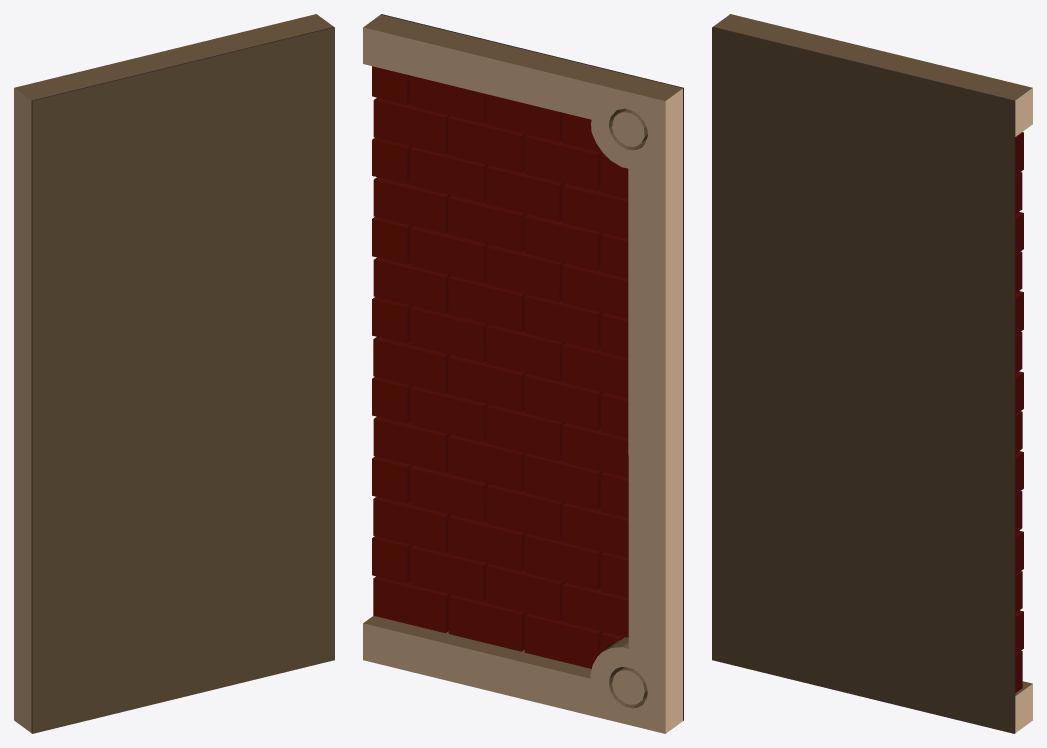
File: RightWall.fbx
The picture shows the model from 3 angles, left to right: view 1: azimuth 30°, elevation 25°; view 2: azimuth 150°, elevation 25°; view 3: azimuth 330°, elevation 25°; orthographic projection.
Visible parts, largest first — view 1: MurExtremoDER; view 2: MurExtremoDER; view 3: MurExtremoDER.
Part boxes in pixels (box(x1,y1,x2,y2)): MurExtremoDER: box(14, 14, 334, 733); MurExtremoDER: box(363, 14, 683, 733); MurExtremoDER: box(712, 14, 1032, 733).
Bounding box in the file's own units: 200 × 400 × 21.
